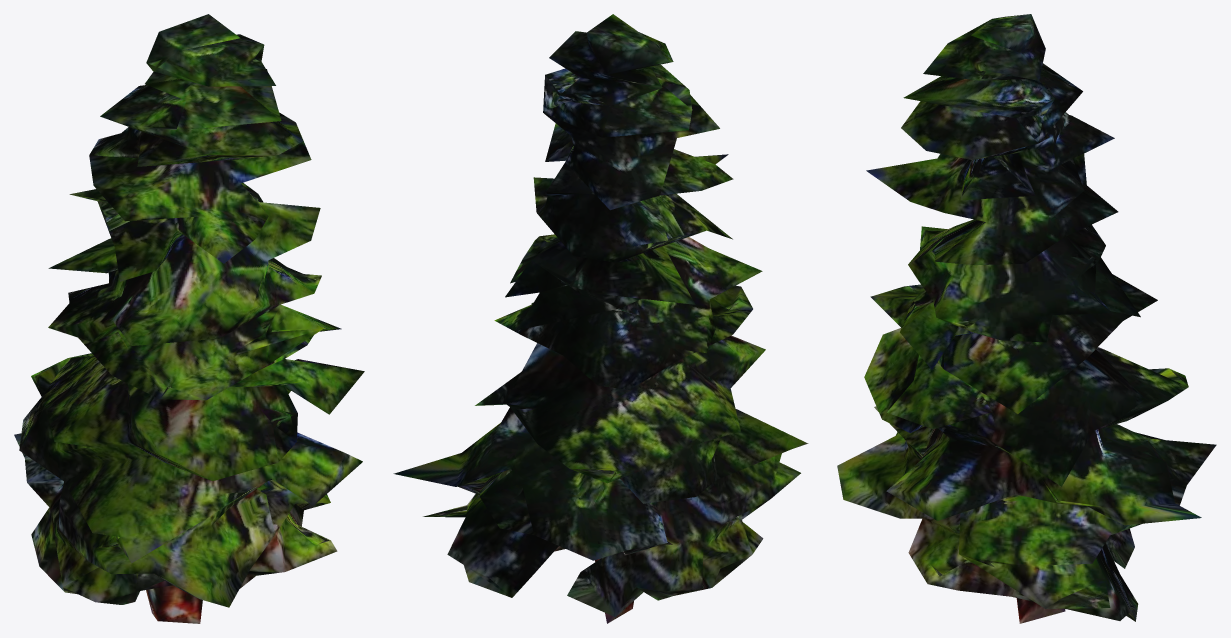
The model's file is secuoya-gigante.glb.
The picture shows the model from 3 angles, left to right: view 1: azimuth 30°, elevation 25°; view 2: azimuth 150°, elevation 25°; view 3: azimuth 270°, elevation 25°; orthographic projection. The views are drawn at different scales.
Visible parts, largest first — view 1: Object_2; view 2: Object_2; view 3: Object_2.
Boxes of the visible parts, box(x1,y1,x2,y2) form: Object_2: box(14, 14, 364, 623); Object_2: box(393, 14, 808, 623); Object_2: box(837, 14, 1216, 623).
Bounding box in the file's own units: 0.5275 × 0.9862 × 0.5666.
Materials: 1 (1 with a texture image).
